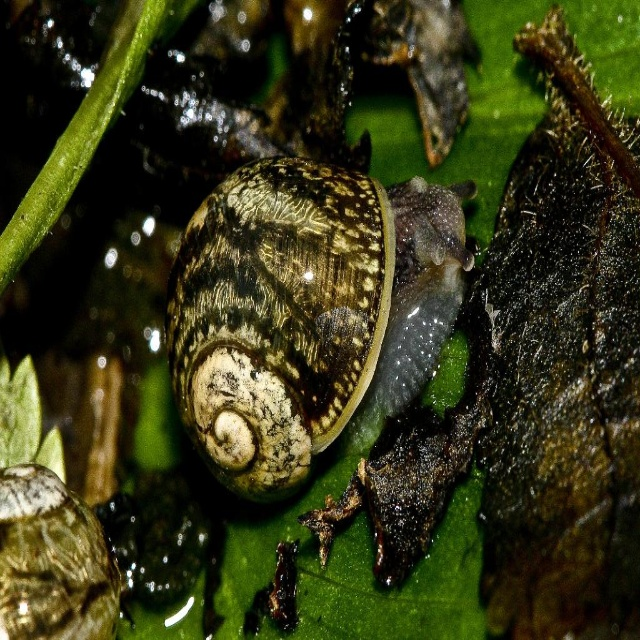Snail: (162, 148, 481, 504), (0, 461, 130, 639)
